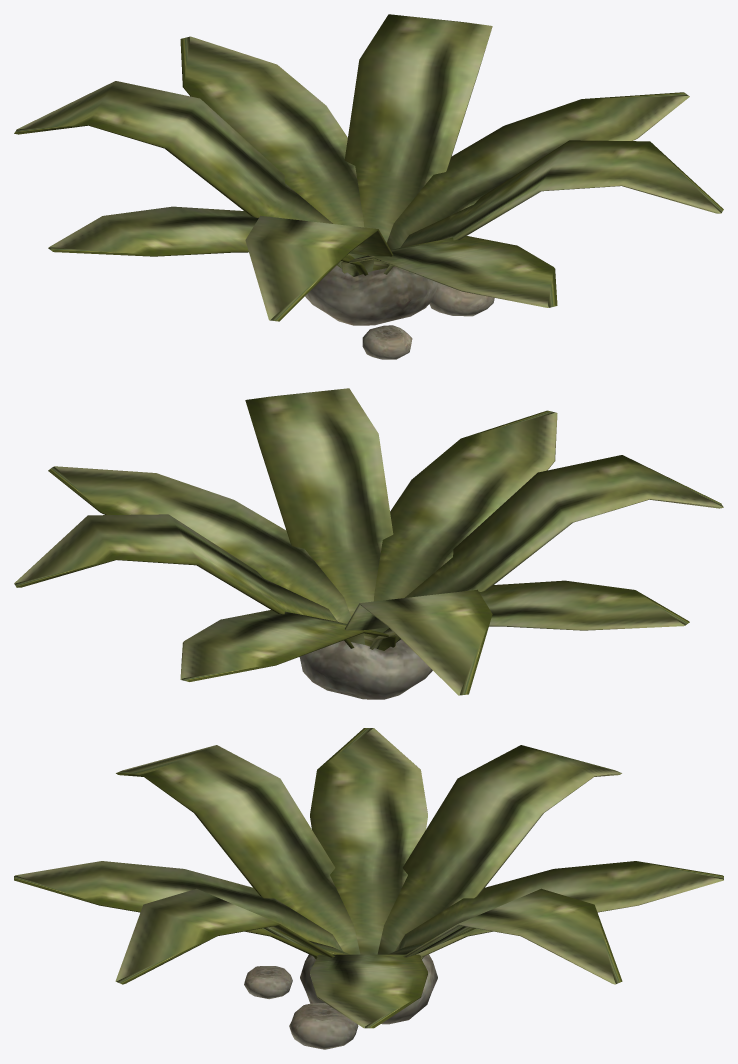
The model's file is plant-01.fbx.
3 renders of one model, top to bottom at view 1: azimuth 30°, elevation 25°; view 2: azimuth 150°, elevation 25°; view 3: azimuth 270°, elevation 25°, orthographic. The views are drawn at different scales.
Parts seen in each view (by area): view 1: Plane.001; view 2: Plane.001; view 3: Plane.001.
Part boxes in pixels (x1,y1,x2,y2): Plane.001: (14,14,723,359); Plane.001: (14,388,723,699); Plane.001: (14,728,723,1049).
Size of the model in its own units: 1.39 by 0.3623 by 1.39.
